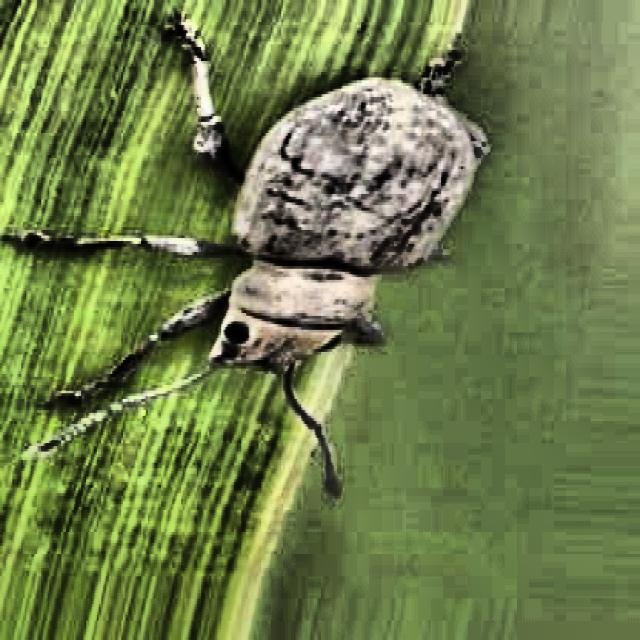Stink bug: (142, 0, 549, 477)
